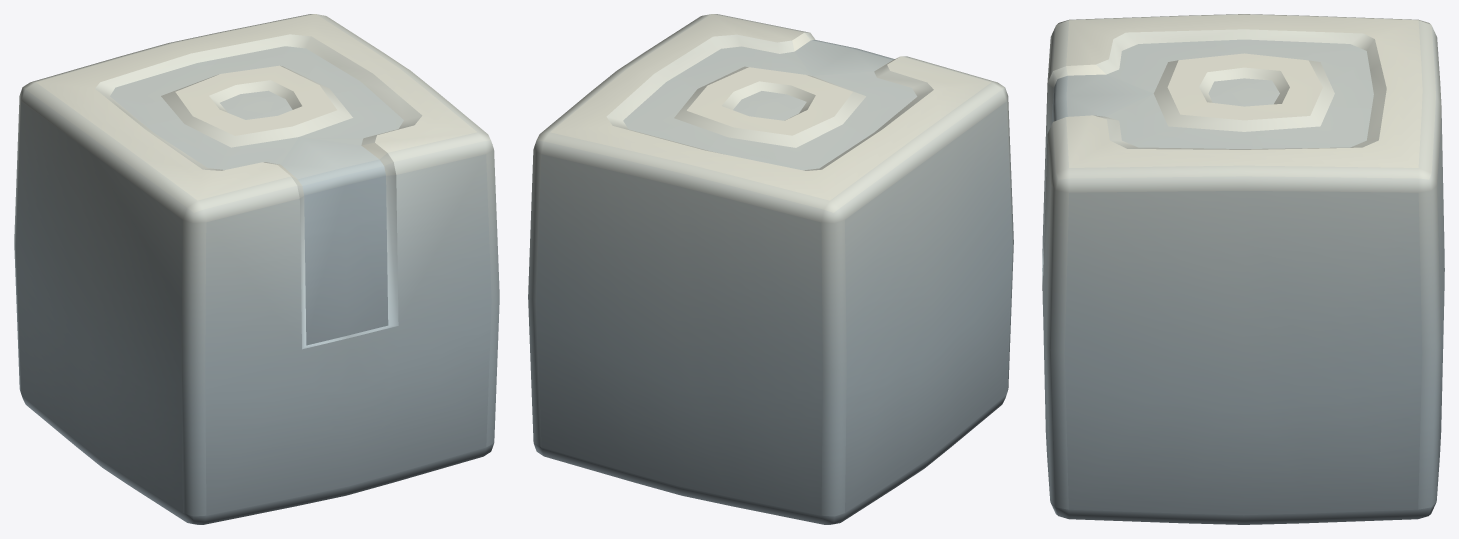
The model's file is Quartz_Free1.fbx.
3 renders of one model, left to right at view 1: azimuth 30°, elevation 25°; view 2: azimuth 150°, elevation 25°; view 3: azimuth 270°, elevation 25°, orthographic. The views are drawn at different scales.
Parts seen in each view (by area): view 1: Quartz_Free1_LOD0; view 2: Quartz_Free1_LOD0; view 3: Quartz_Free1_LOD0.
Part boxes in pixels (box(x1,y1,x2,y2)): Quartz_Free1_LOD0: box(14, 14, 499, 524); Quartz_Free1_LOD0: box(528, 14, 1013, 524); Quartz_Free1_LOD0: box(1042, 14, 1444, 524).
Size of what is drawn, in the model's own units: 1.09 by 1.09 by 1.09.
